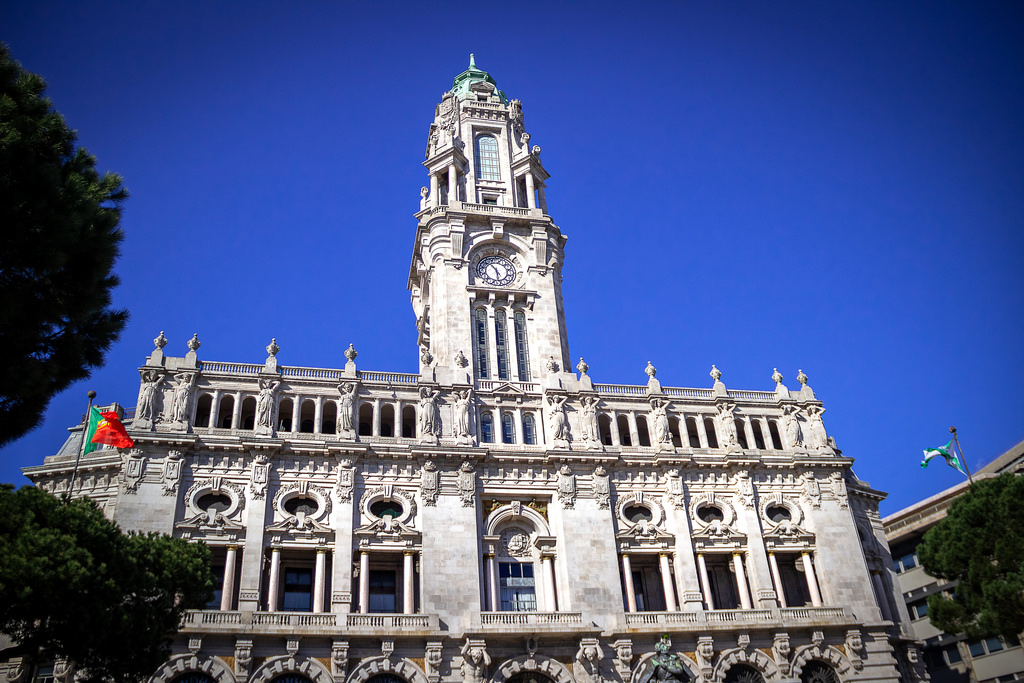camara: (2, 52, 932, 682)
